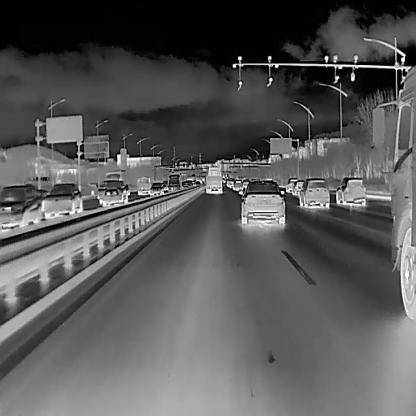car: (238, 177, 285, 224), (0, 183, 42, 231), (42, 182, 82, 218), (298, 176, 330, 208), (334, 175, 366, 206), (101, 178, 128, 206), (291, 180, 306, 195), (284, 176, 298, 192), (149, 180, 162, 196), (230, 177, 243, 190), (179, 180, 192, 192), (227, 180, 234, 188)
truck: (203, 164, 223, 195), (165, 172, 181, 194), (136, 175, 151, 195)
